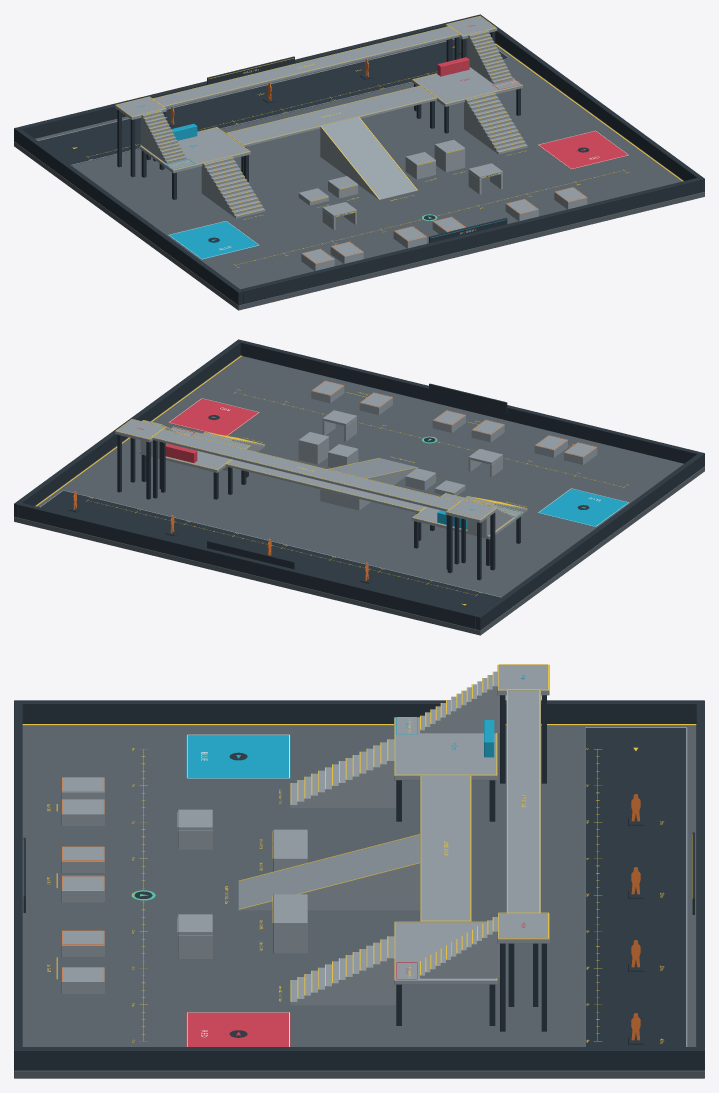
Rendered from fps_arena.glb.
The picture shows the model from 3 angles, top to bottom: view 1: azimuth 30°, elevation 25°; view 2: azimuth 150°, elevation 25°; view 3: azimuth 270°, elevation 25°; orthographic projection. The views are drawn at different scales.
Parts seen in each view (by area): view 1: fps_arena.foundation.0001, fps_arena.range_lane.0341, fps_arena.end_boundary.0003, fps_arena.central_ramp_16deg.0222, fps_arena.side_boundary.0002, fps_arena.sky_bridge_6m_deck.0213, fps_arena.side_boundary.0103, fps_arena.center_bridge_3m_deck.0204, fps_arena.end_boundary.0104, fps_arena.red_deck_3m_deck.0116, fps_arena.blue_deck_3m_deck.0015, fps_arena.spawn_zone.0106 (+13 smaller); view 2: fps_arena.foundation.0001, fps_arena.range_lane.0341, fps_arena.end_boundary.0104, fps_arena.end_boundary.0003, fps_arena.side_boundary.0002, fps_arena.sky_bridge_6m_deck.0213, fps_arena.side_boundary.0103, fps_arena.spawn_zone.0005, fps_arena.spawn_zone.0106, fps_arena.central_ramp_16deg.0222, fps_arena.center_bridge_3m_deck.0204, fps_arena.red_deck_3m_deck.0116 (+14 smaller); view 3: fps_arena.foundation.0001, fps_arena.range_lane.0341, fps_arena.side_boundary.0103, fps_arena.side_boundary.0002, fps_arena.central_ramp_16deg.0222, fps_arena.sky_bridge_6m_deck.0213, fps_arena.center_bridge_3m_deck.0204, fps_arena.blue_deck_3m_deck.0015, fps_arena.spawn_zone.0005, fps_arena.red_deck_3m_deck.0116, fps_arena.spawn_zone.0106, fps_arena.end_boundary.0003 (+18 smaller).
Boxes of the visible parts, x1=… form: fps_arena.foundation.0001: x1=14, y1=37, x2=704, y2=310; fps_arena.range_lane.0341: x1=38, y1=38, x2=509, y2=165; fps_arena.end_boundary.0003: x1=241, y1=178, x2=699, y2=304; fps_arena.central_ramp_16deg.0222: x1=320, y1=117, x2=417, y2=199; fps_arena.side_boundary.0002: x1=14, y1=127, x2=242, y2=305; fps_arena.sky_bridge_6m_deck.0213: x1=153, y1=26, x2=459, y2=108; fps_arena.side_boundary.0103: x1=476, y1=14, x2=704, y2=192; fps_arena.center_bridge_3m_deck.0204: x1=226, y1=86, x2=436, y2=146; fps_arena.end_boundary.0104: x1=19, y1=15, x2=476, y2=138; fps_arena.red_deck_3m_deck.0116: x1=412, y1=67, x2=522, y2=106; fps_arena.blue_deck_3m_deck.0015: x1=139, y1=127, x2=250, y2=173; fps_arena.spawn_zone.0106: x1=538, y1=131, x2=629, y2=169; fps_arena.foundation.0001: x1=14, y1=355, x2=704, y2=635; fps_arena.range_lane.0341: x1=40, y1=490, x2=500, y2=614; fps_arena.end_boundary.0104: x1=19, y1=503, x2=477, y2=629; fps_arena.end_boundary.0003: x1=240, y1=340, x2=699, y2=463; fps_arena.side_boundary.0002: x1=476, y1=452, x2=704, y2=630; fps_arena.sky_bridge_6m_deck.0213: x1=152, y1=429, x2=459, y2=511; fps_arena.side_boundary.0103: x1=14, y1=339, x2=242, y2=517; fps_arena.spawn_zone.0005: x1=538, y1=488, x2=629, y2=527; fps_arena.spawn_zone.0106: x1=168, y1=398, x2=259, y2=435; fps_arena.central_ramp_16deg.0222: x1=320, y1=458, x2=417, y2=510; fps_arena.center_bridge_3m_deck.0204: x1=226, y1=459, x2=426, y2=513; fps_arena.red_deck_3m_deck.0116: x1=139, y1=427, x2=250, y2=472; fps_arena.foundation.0001: x1=14, y1=725, x2=704, y2=1078; fps_arena.range_lane.0341: x1=584, y1=727, x2=687, y2=1046; fps_arena.side_boundary.0103: x1=14, y1=1047, x2=704, y2=1070; fps_arena.side_boundary.0002: x1=14, y1=700, x2=704, y2=723; fps_arena.central_ramp_16deg.0222: x1=238, y1=834, x2=419, y2=910; fps_arena.sky_bridge_6m_deck.0213: x1=506, y1=690, x2=540, y2=912; fps_arena.center_bridge_3m_deck.0204: x1=420, y1=776, x2=471, y2=921; fps_arena.blue_deck_3m_deck.0015: x1=394, y1=717, x2=497, y2=780; fps_arena.spawn_zone.0005: x1=186, y1=734, x2=290, y2=778; fps_arena.red_deck_3m_deck.0116: x1=394, y1=922, x2=497, y2=984; fps_arena.spawn_zone.0106: x1=186, y1=1012, x2=290, y2=1046; fps_arena.end_boundary.0003: x1=14, y1=704, x2=22, y2=1046.
Size of the model in its own units: 48 by 6.53 by 40.
